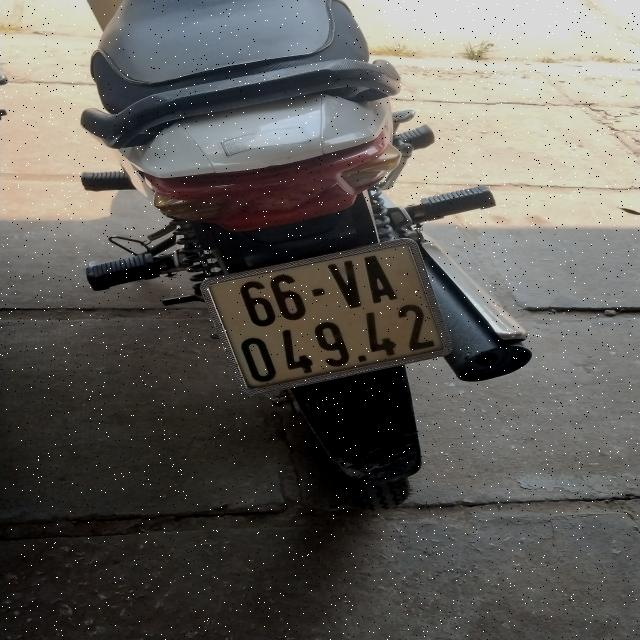0: (236, 336, 278, 386)
2: (398, 303, 437, 350)
4: (282, 330, 314, 377), (365, 311, 398, 356)
6: (238, 279, 276, 326), (272, 271, 305, 320)
9: (316, 320, 350, 367)
A: (361, 251, 396, 308)
V: (323, 258, 363, 313)
